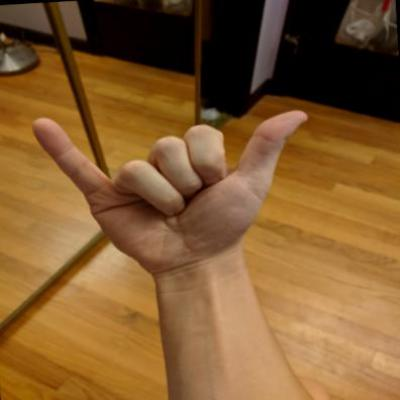hand: (24, 90, 326, 291)
